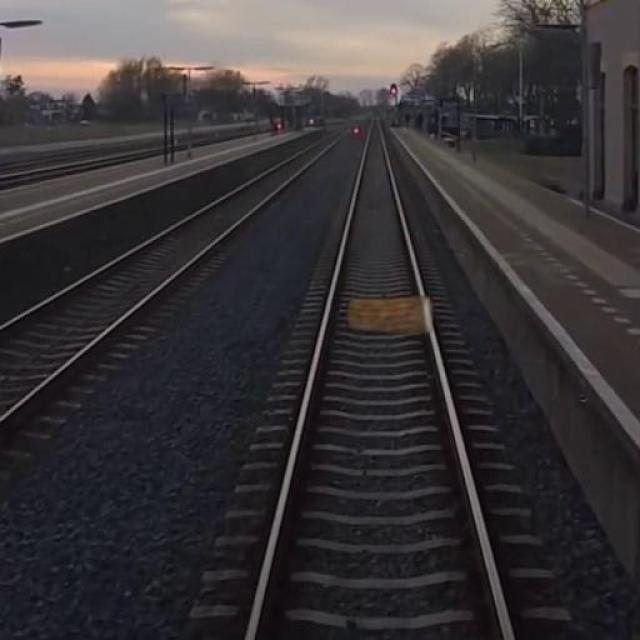Branches: (345, 291, 443, 341)
